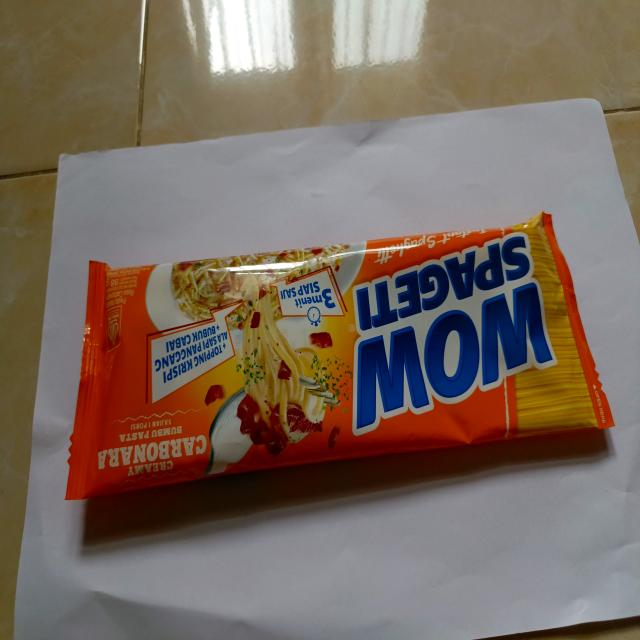indomie-tori-miso: (65, 213, 616, 504)
